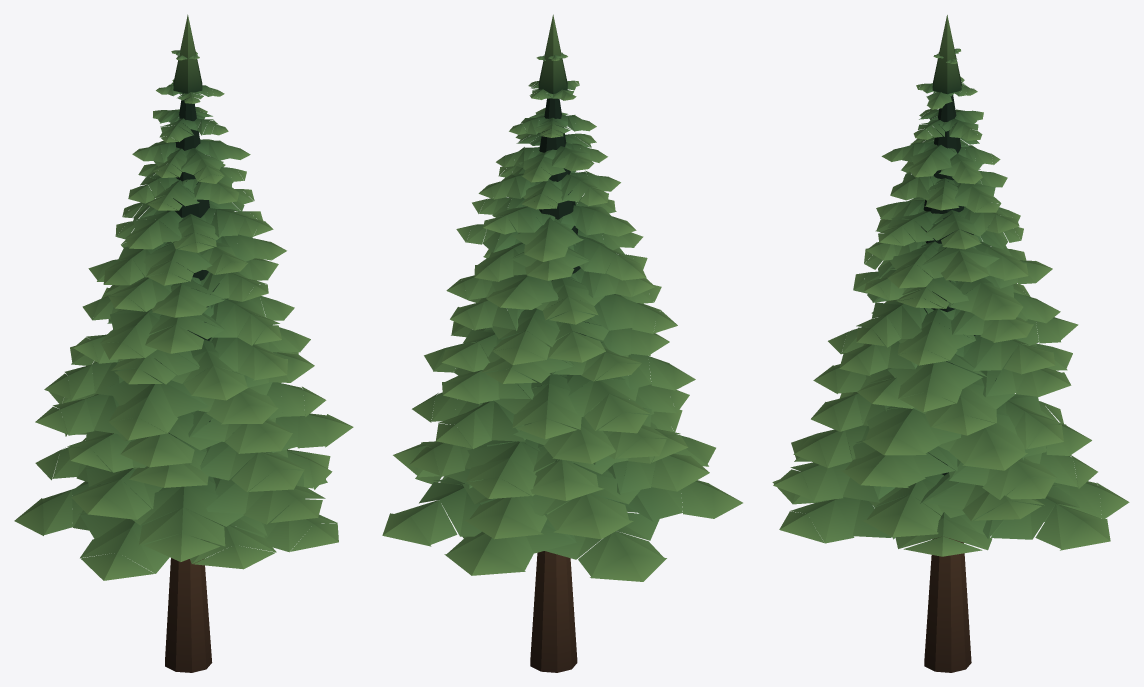
The model's file is valley-pine_a.glb.
The picture shows the model from 3 angles, left to right: view 1: azimuth 30°, elevation 25°; view 2: azimuth 150°, elevation 25°; view 3: azimuth 270°, elevation 25°; orthographic projection.
Visible parts, largest first — view 1: pine_a; view 2: pine_a; view 3: pine_a.
Boxes of the visible parts, x1,y1,x2,y2 form: pine_a: (14,14,353,672); pine_a: (382,14,742,672); pine_a: (772,15,1129,672).
Bounding box in the file's own units: 11.43 × 25.56 × 12.76.
